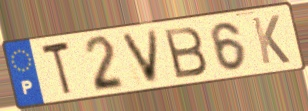2: (83, 34, 127, 96)
6: (208, 20, 249, 73)
B: (161, 24, 210, 81)
K: (249, 13, 293, 67)
T: (39, 39, 74, 99)
V: (117, 27, 160, 86)
